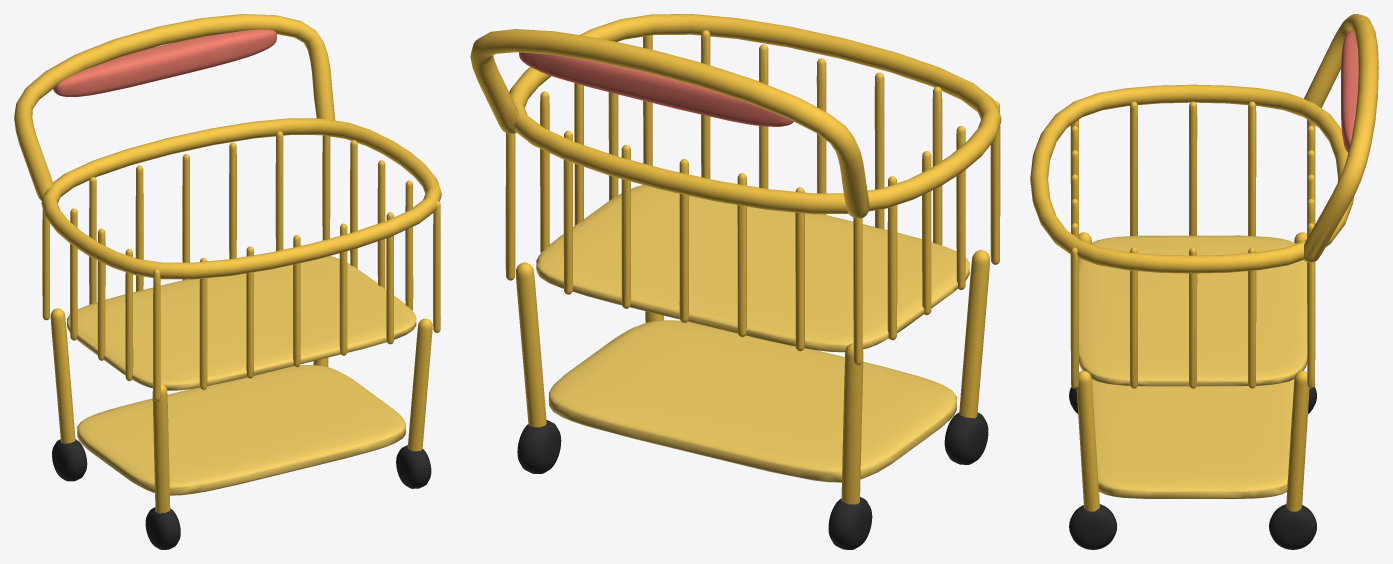
Rendered from carrito_2.glb.
3 renders of one model, left to right at view 1: azimuth 30°, elevation 25°; view 2: azimuth 150°, elevation 25°; view 3: azimuth 270°, elevation 25°, orthographic. The views are drawn at different scales.
Visible parts, largest first — view 1: bandeja baja, fondo canasta.006, marco canasta.006, manija.005, agarre, pata.009, pata.010, pata.008, rueda.005, rueda.006, rueda.004, barrote.110 (+19 smaller); view 2: bandeja baja, fondo canasta.006, marco canasta.006, manija.005, agarre, pata.008, pata.011, pata.009, rueda.004, rueda.007, rueda.005, barrote.123 (+19 smaller); view 3: fondo canasta.006, bandeja baja, marco canasta.006, manija.005, pata.011, pata.010, agarre, rueda.007, rueda.006, barrote.122, barrote.128, barrote.123 (+5 smaller).
Part boxes in pixels (x1,y1,x2,y2): bandeja baja: (77,365,405,495); fondo canasta.006: (67,256,416,390); marco canasta.006: (41,118,441,279); manija.005: (14,14,335,200); agarre: (53,29,276,96); pata.009: (50,308,75,443); pata.010: (407,318,432,451); pata.008: (152,383,170,513); rueda.005: (52,439,87,481); rueda.006: (396,445,431,488); rueda.004: (145,507,180,549); barrote.110: (153,269,160,401); bandeja baja: (549,320,956,482); fondo canasta.006: (536,185,969,352); marco canasta.006: (509,14,1001,214); manija.005: (470,29,869,218); agarre: (519,52,793,126); pata.008: (959,250,989,418); pata.011: (516,262,546,427); pata.009: (841,343,863,504); rueda.004: (944,412,988,464); rueda.007: (517,420,561,473); rueda.005: (828,497,872,549); barrote.123: (505,133,515,280); fondo canasta.006: (1079,235,1307,386); bandeja baja: (1092,379,1294,498); marco canasta.006: (1030,84,1353,273); manija.005: (1303,14,1378,262); pata.011: (1286,370,1309,511); pata.010: (1076,370,1099,511); agarre: (1340,30,1358,152); rueda.007: (1269,504,1316,549); rueda.006: (1069,504,1117,549); barrote.122: (1070,247,1078,388); barrote.128: (1248,101,1256,236); barrote.123: (1307,262,1315,388).
Size of the model in its own units: 0.9297 by 1.03 by 0.7674.
